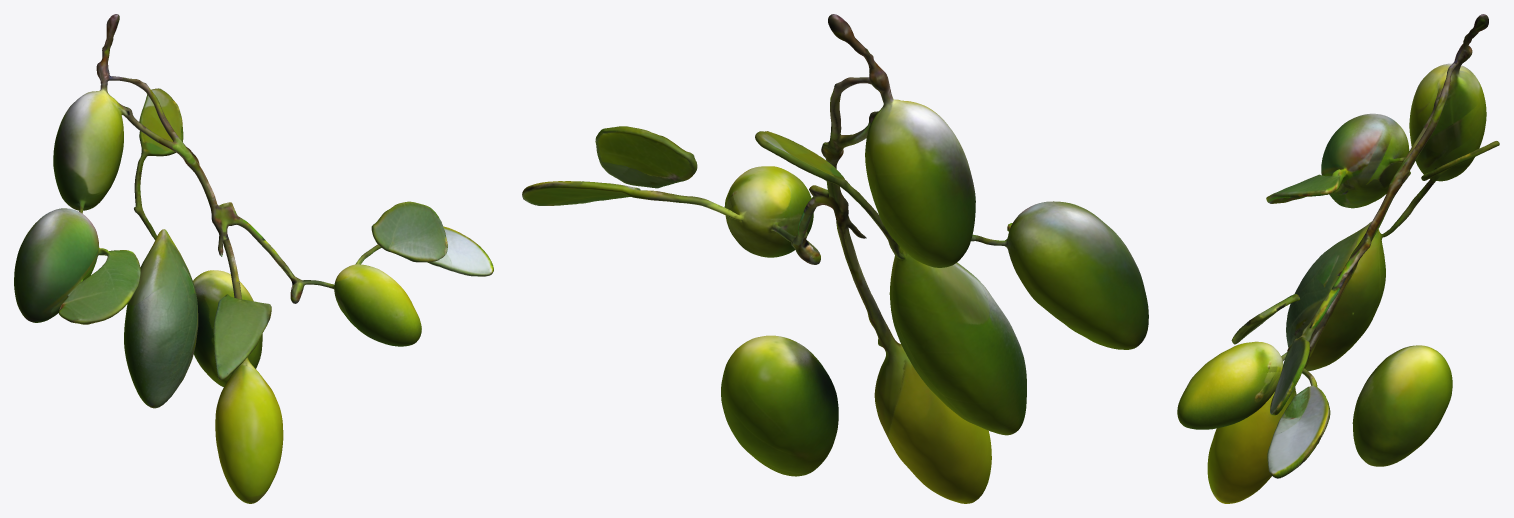
Rendered from tree0086_dup.gltf.
3 renders of one model, left to right at view 1: azimuth 30°, elevation 25°; view 2: azimuth 150°, elevation 25°; view 3: azimuth 270°, elevation 25°, orthographic. The views are drawn at different scales.
Visible parts, largest first — view 1: Mesh_0.063; view 2: Mesh_0.063; view 3: Mesh_0.063.
Part boxes in pixels (<box>): Mesh_0.063: <box>14,14,493,503</box>; Mesh_0.063: <box>522,14,1148,503</box>; Mesh_0.063: <box>1177,14,1499,503</box>.
Bounding box in the file's own units: 2 × 1.78 × 1.1.
Materials: 1 (1 with a texture image).
